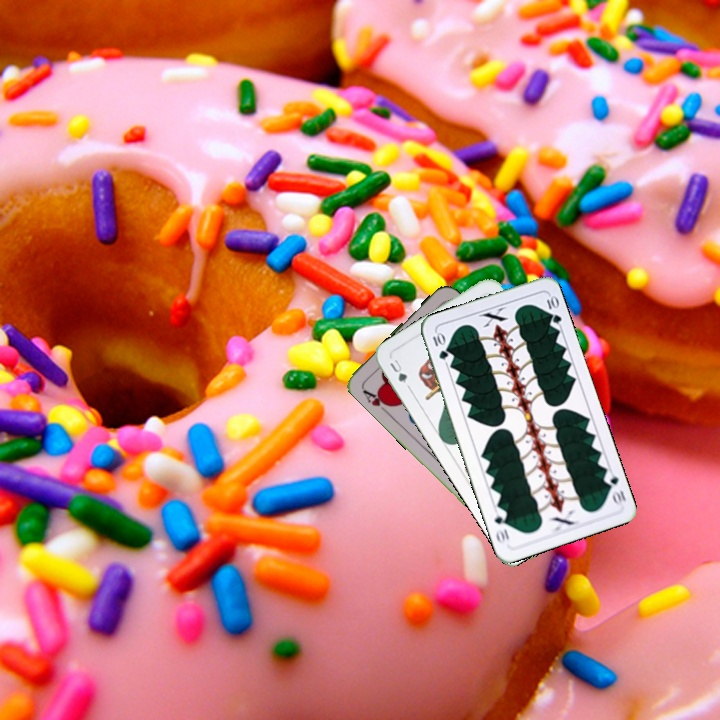G10: (600, 469, 629, 508), (428, 328, 451, 362)
GU: (385, 355, 410, 386)
HA: (358, 383, 395, 415)
